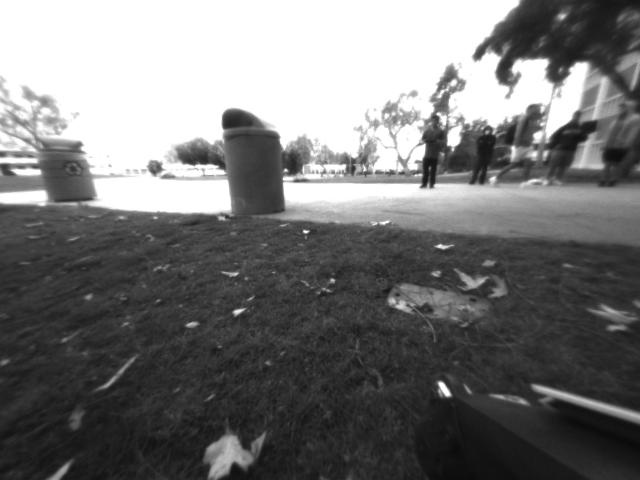trashcan: (220, 97, 295, 221)
